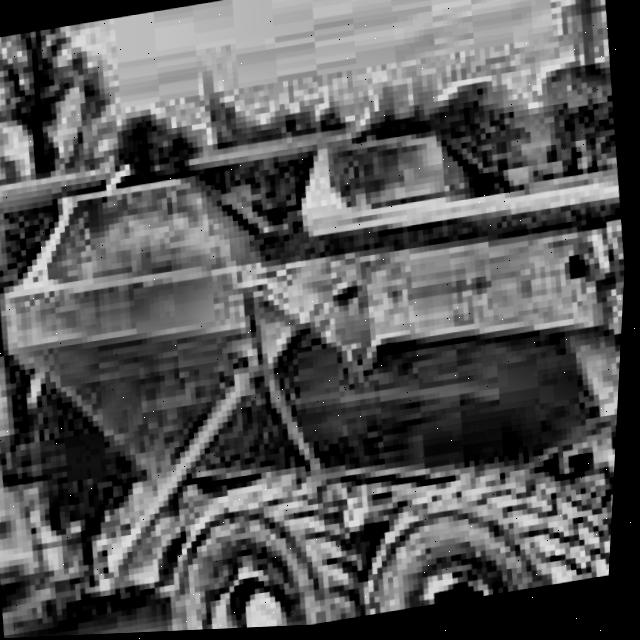dump_truck: (0, 25, 638, 640)
